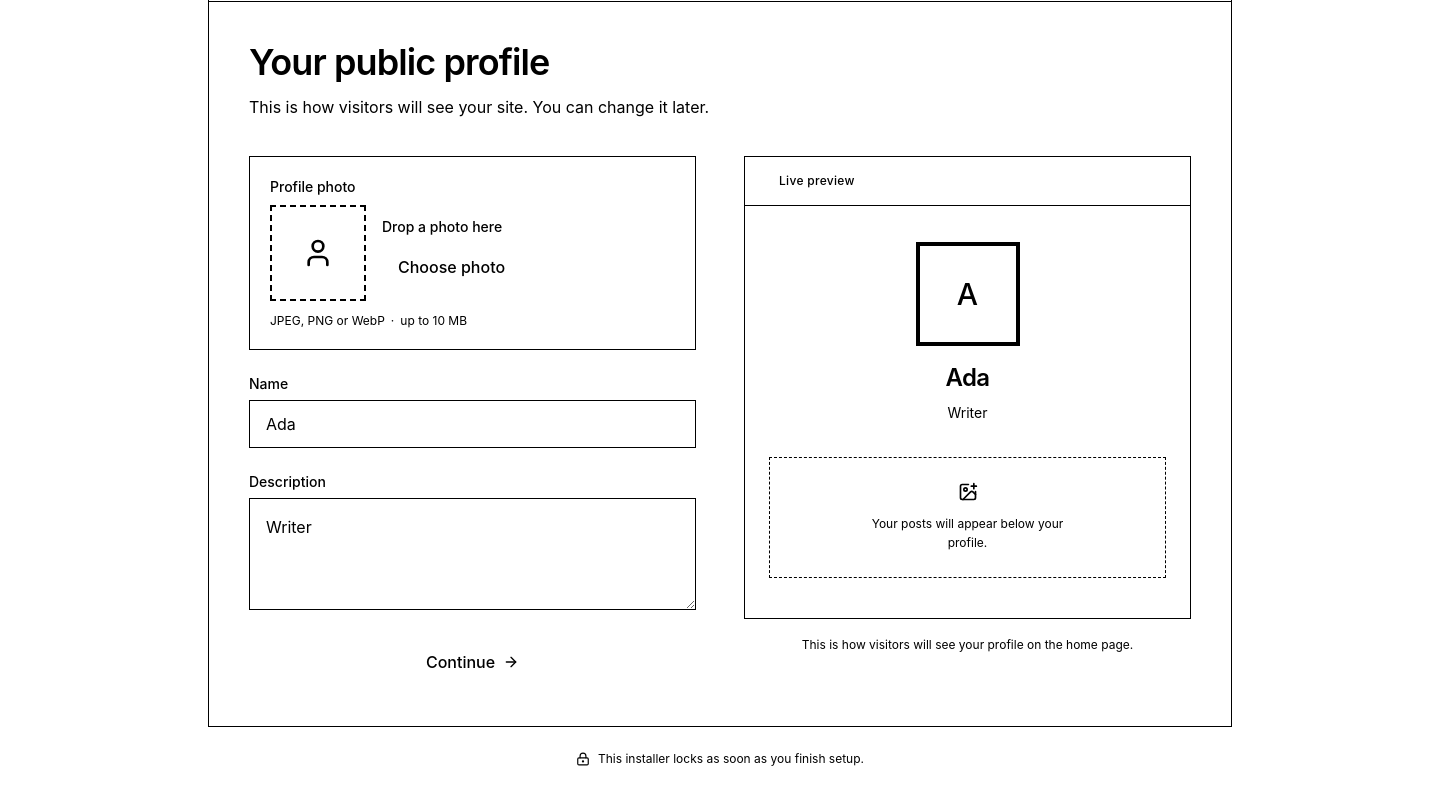
Test: SetupWizard › Given a valid owner account, should show the review step as current with the step count
The image size is (1440, 807).
(page scrolled)
Click the button "Continue" at (472, 662), box [249,638,696,686]
(page scrolled)
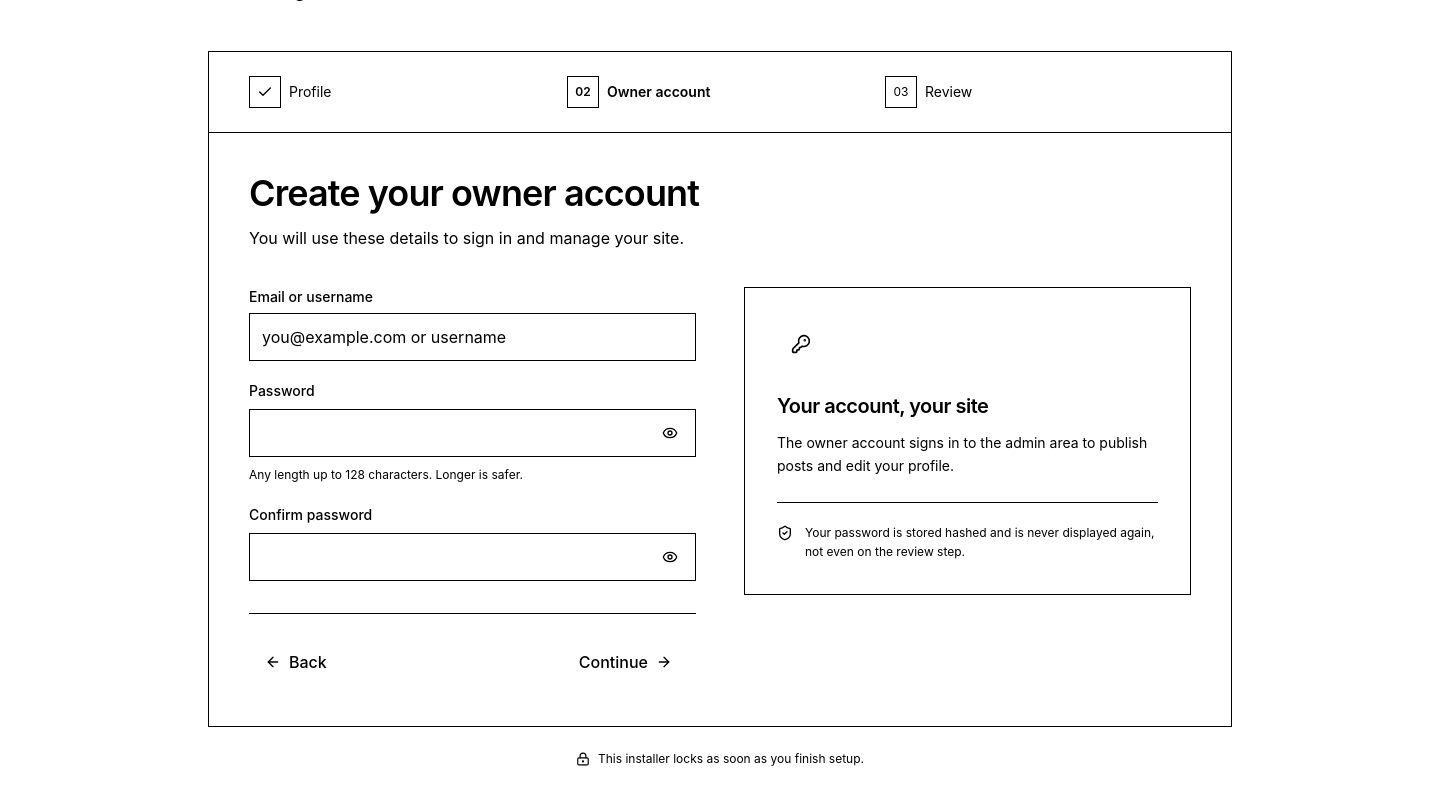
Type "owner@example.test" into the field labelled "Email or username" at (472, 337), box [249,313,696,361]
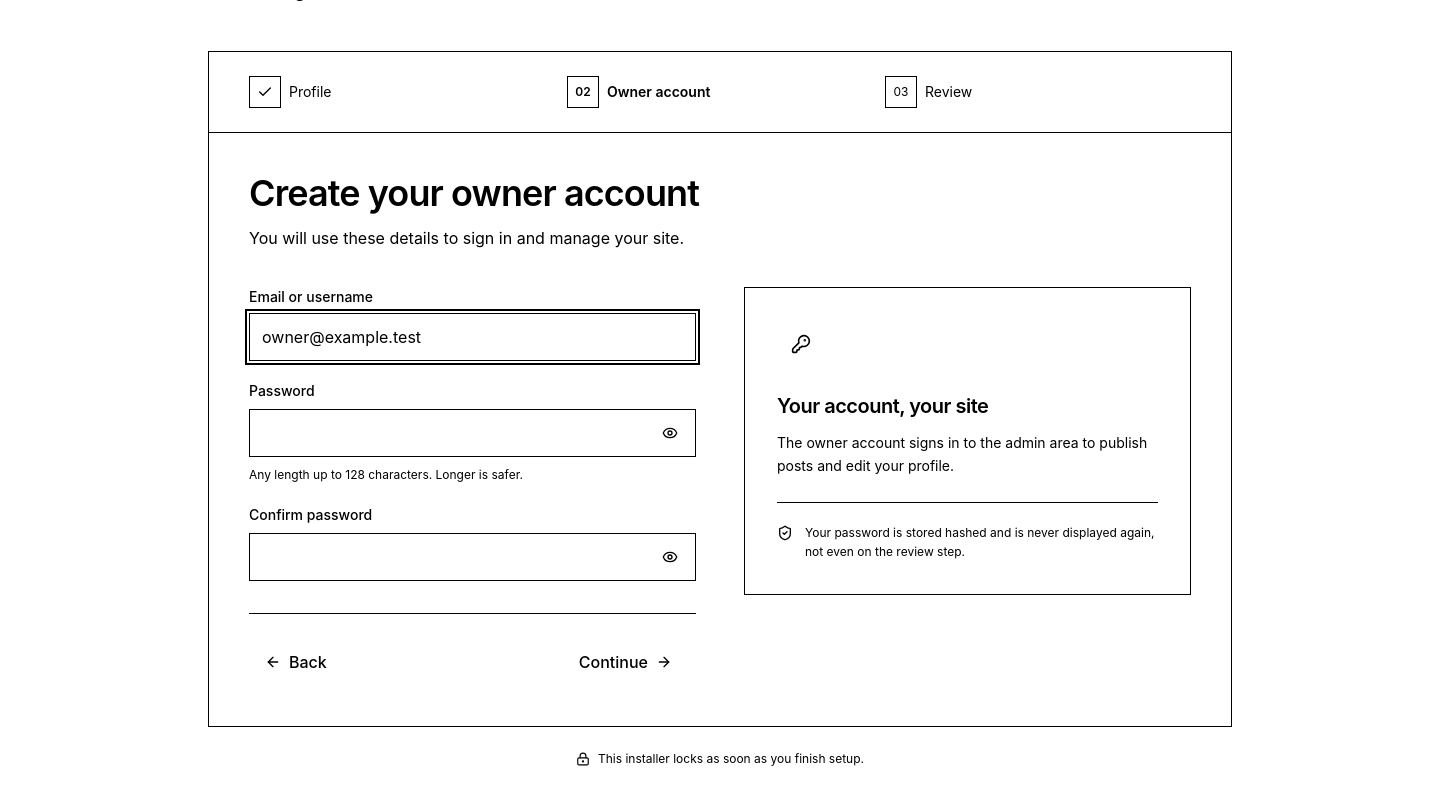
Type "owner-password" into the password field labelled "Password" at (472, 433), box [249,409,696,457]
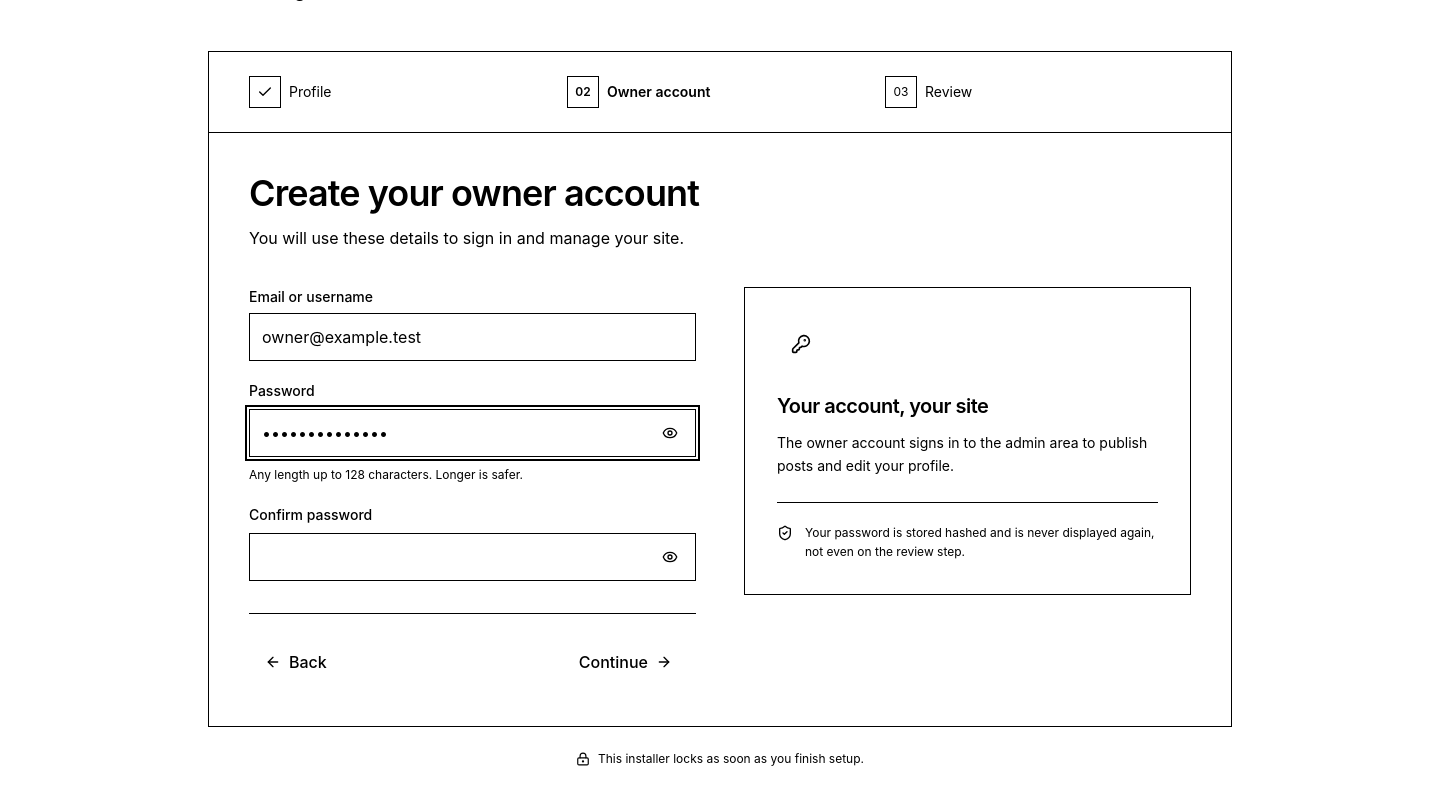
Type "owner-password" into the password field labelled "Confirm password" at (472, 556), box [249,532,696,580]
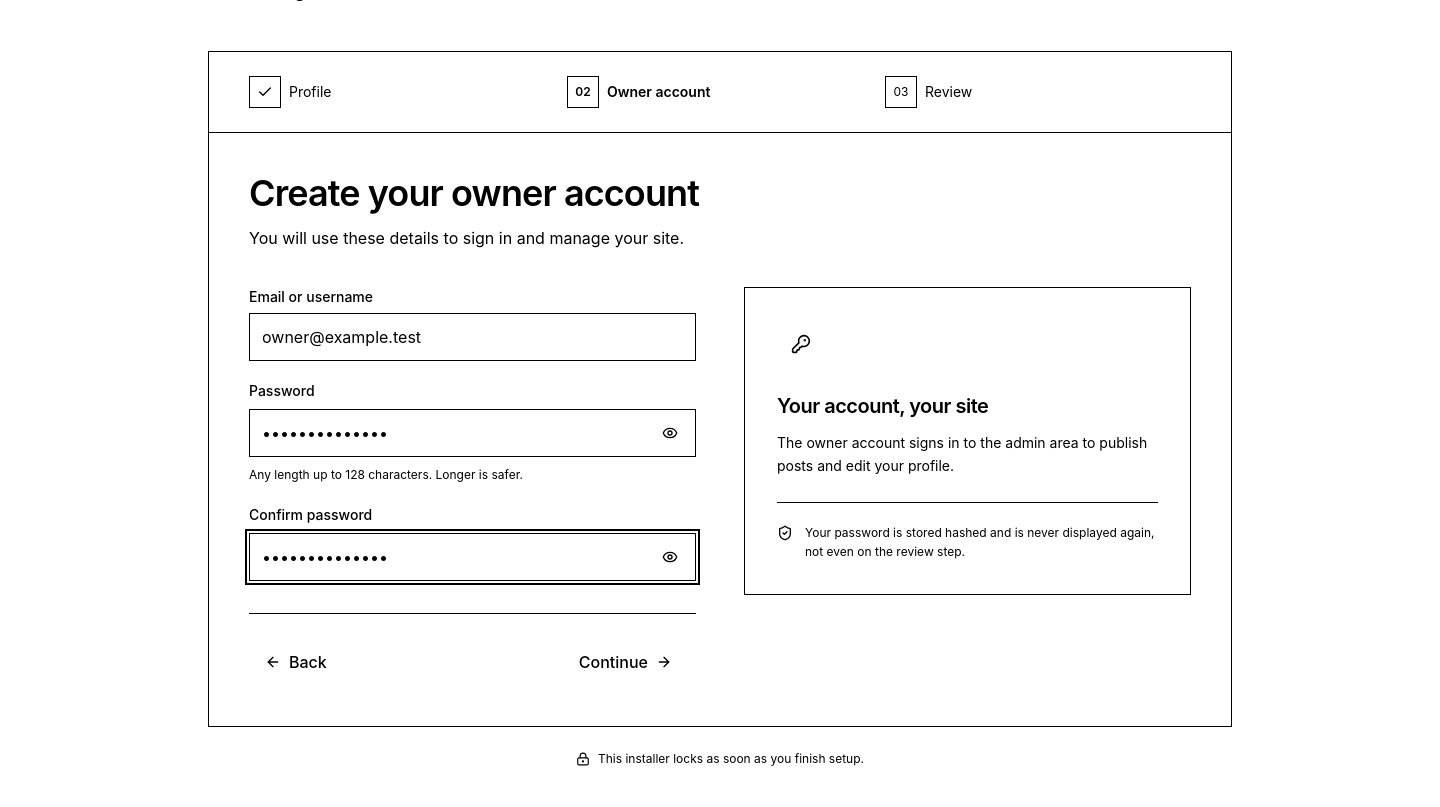
Click the button "Continue" at (625, 662), box [555,638,696,686]
(page scrolled)
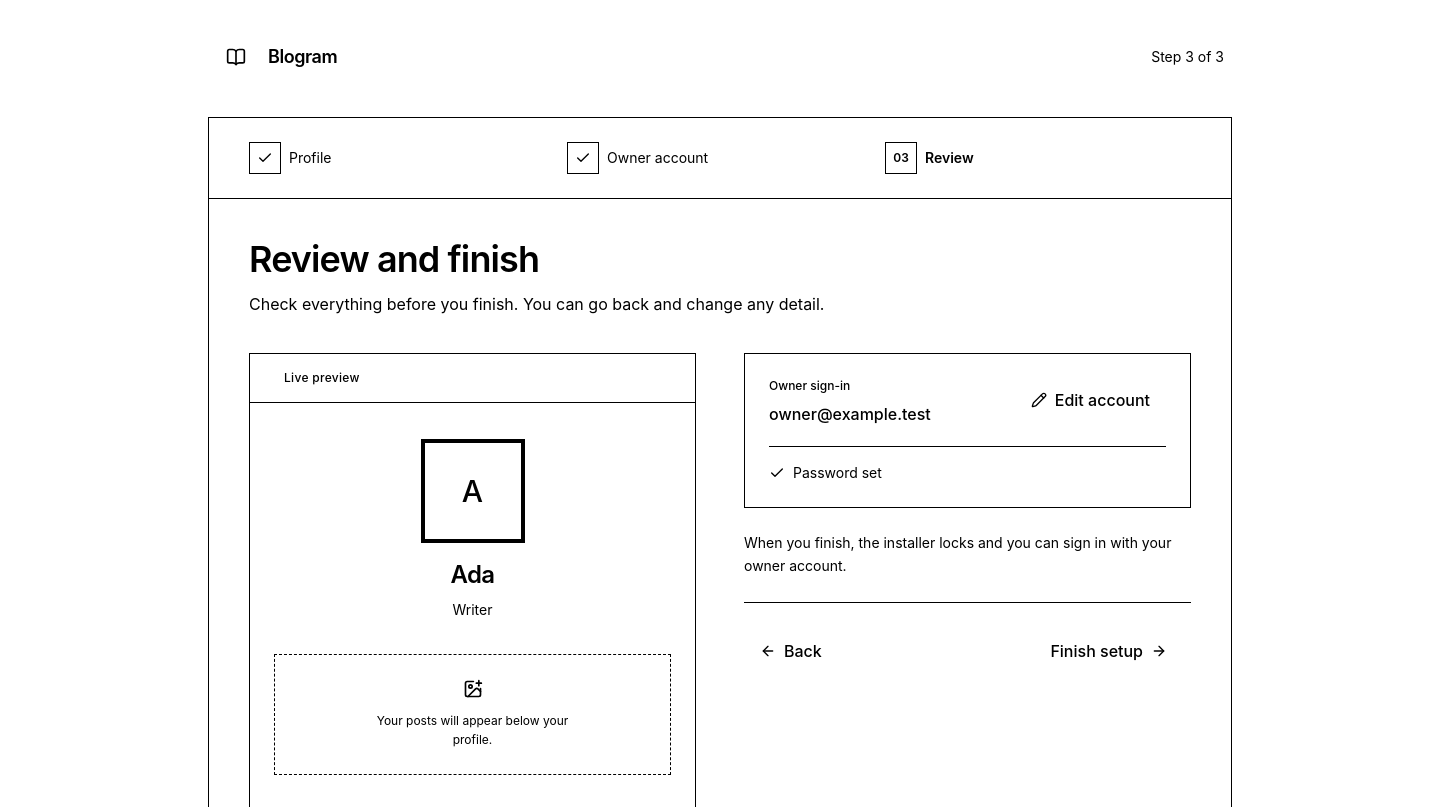
expect the text "Step 3 of 3" is shown: met, box [1151,47,1224,67]
